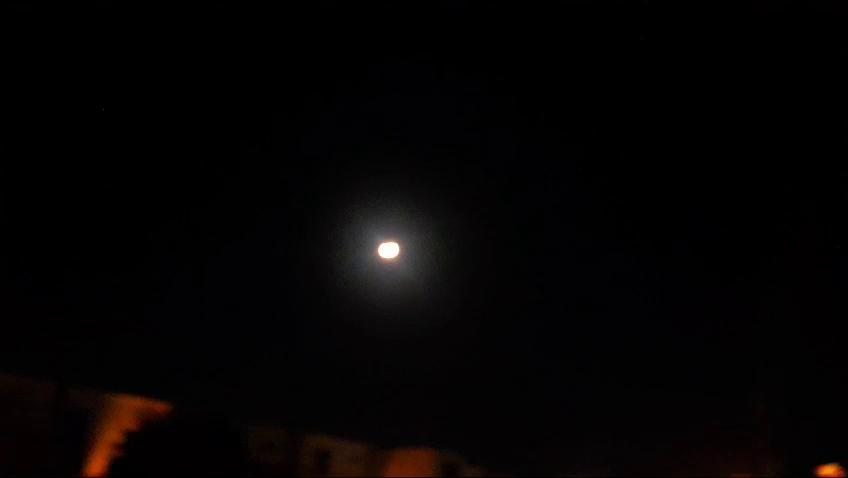moon: (372, 226, 396, 252)
